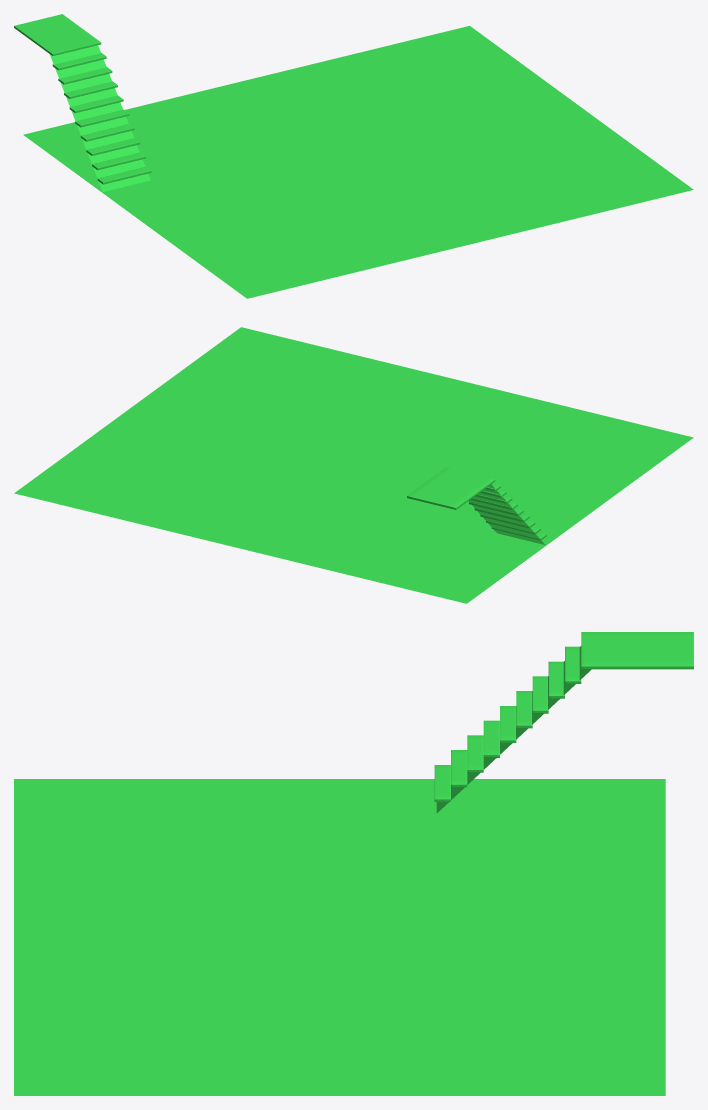
File: Navmesh.glb
3 views of the same model, one above another, from view 1: azimuth 30°, elevation 25°; view 2: azimuth 150°, elevation 25°; view 3: azimuth 270°, elevation 25° (orthographic). The views are drawn at different scales.
Visible parts, largest first — view 1: Plane, smooth_step_8; view 2: Plane, smooth_step_8; view 3: Plane, smooth_step_8.
Part boxes in pixels (x1=…): Plane: x1=23, y1=26, x2=693, y2=298; smooth_step_8: x1=14, y1=14, x2=101, y2=55; Plane: x1=14, y1=327, x2=693, y2=603; smooth_step_8: x1=407, y1=467, x2=495, y2=509; Plane: x1=14, y1=646, x2=665, y2=1095; smooth_step_8: x1=581, y1=632, x2=693, y2=669.
Bounding box in the file's own units: 13.81 × 3.02 × 12.52.
